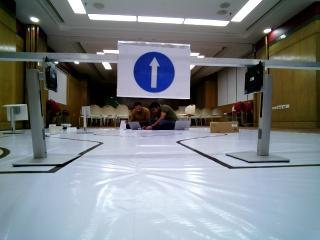straight: (122, 44, 190, 99)
